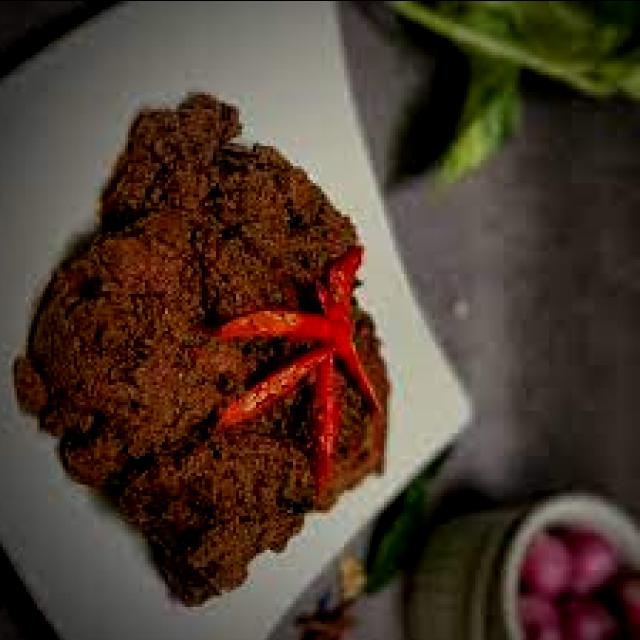rendang: (23, 91, 390, 597)
